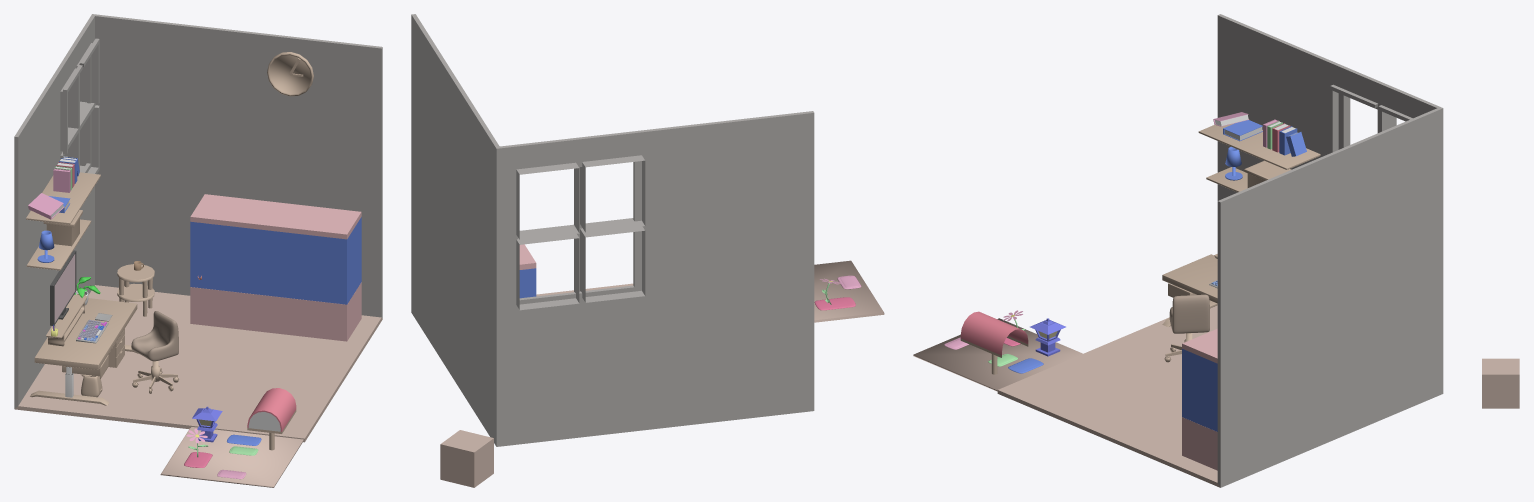
Rendered from Finale Version 6.glb.
3 renders of one model, left to right at view 1: azimuth 30°, elevation 25°; view 2: azimuth 150°, elevation 25°; view 3: azimuth 270°, elevation 25°, orthographic. The views are drawn at different scales.
Parts seen in each view (by area): view 1: Body, Aquarium, Desks, Shelves, MiniFloor, Table Stuff, Mailbox, Clock, Chair, FloorItems, computer, Lamp; view 2: Body, Cube.002, MiniFloor, Aquarium; view 3: Body, Shelves, Aquarium, MiniFloor, Mailbox, Cube.002, Desks, Chair, Lamp.
Boxes of the visible parts, x1,y1,x2,y2 form: Body: (14, 14, 382, 442); Aquarium: (190, 194, 361, 341); Desks: (30, 264, 154, 405); Shelves: (26, 156, 100, 270); MiniFloor: (160, 427, 303, 487); Table Stuff: (46, 261, 143, 346); Mailbox: (247, 388, 296, 450); Clock: (267, 52, 313, 96); Chair: (131, 311, 178, 361); FloorItems: (81, 329, 178, 397); computer: (50, 250, 76, 325); Lamp: (192, 406, 222, 442); Body: (411, 14, 814, 446); Cube.002: (440, 430, 493, 487); MiniFloor: (814, 260, 884, 322); Aquarium: (519, 244, 536, 298); Body: (997, 14, 1443, 487); Shelves: (1198, 112, 1320, 192); Aquarium: (1182, 328, 1217, 470); MiniFloor: (913, 318, 1082, 391); Mailbox: (960, 311, 1028, 374); Cube.002: (1482, 358, 1519, 408); Desks: (1162, 254, 1217, 327); Chair: (1169, 294, 1209, 333); Lamp: (1030, 318, 1065, 356).
Bounding box in the file's own units: 23.76 × 17.22 × 32.32.
